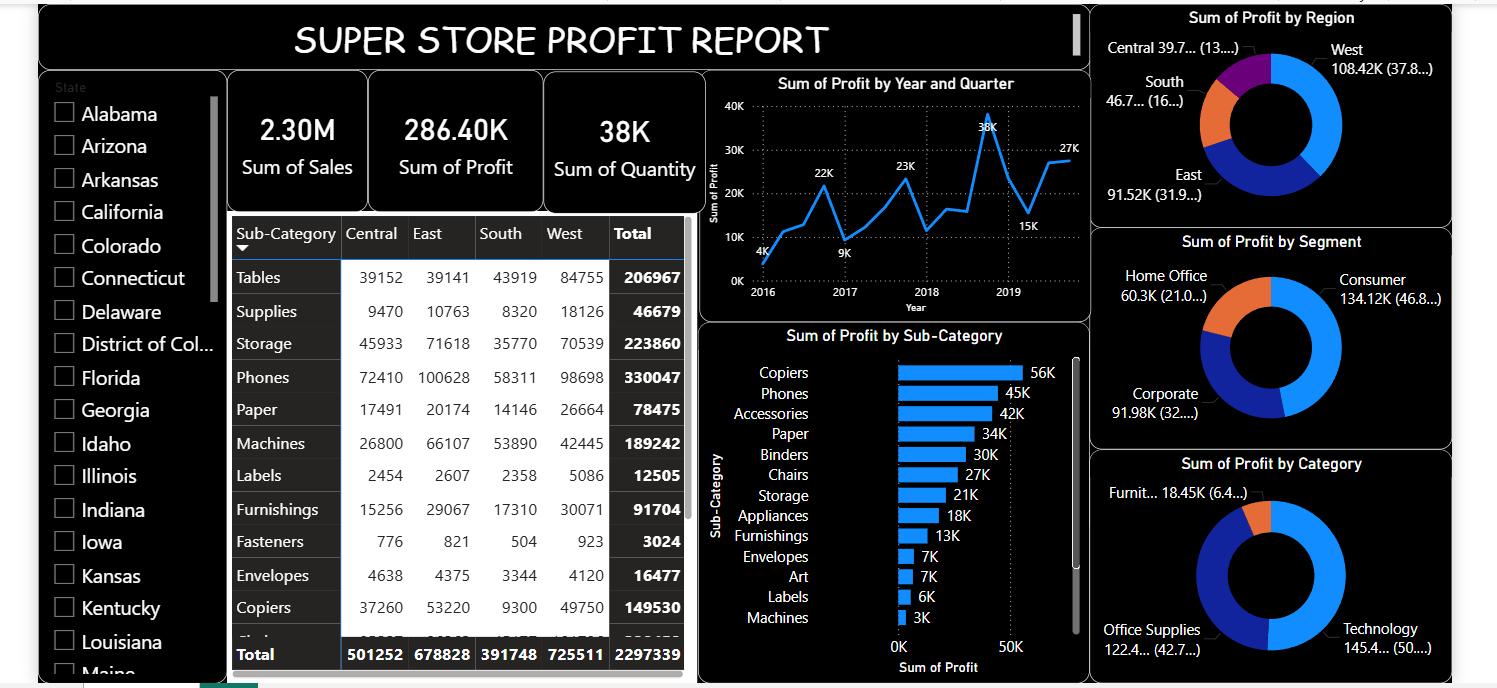

This screenshot's page, from the dashboard's own definition file:
{"tool":"powerbi","page":{"name":"Page 2","canvas":[1500,720],"ordinal":0},"visuals":[{"type":"textbox","box":[0,0,1116.6,70],"z":0},{"type":"donutChart","fields":{"Y":["Sum(Orders.Profit)"],"Category":["Orders.Category"]},"box":[1115,472.4,384.9,248.1],"z":1000},{"type":"donutChart","fields":{"Y":["Sum(Orders.Profit)"],"Category":["Orders.Segment"]},"box":[1115,237,384.9,235.4],"z":2000},{"type":"donutChart","fields":{"Y":["Sum(Orders.Profit)"],"Category":["Orders.Region"]},"box":[1115,0,384.9,237],"z":3000},{"type":"barChart","fields":{"Category":["Orders.Sub-Category"],"Y":["Sum(Orders.Profit)"]},"box":[699.9,337.2,415.1,383.3],"z":4000},{"type":"lineChart","fields":{"Category":["Orders.Order Date.Variation.Date Hierarchy.Year","Orders.Order Date.Variation.Date Hierarchy.Quarter","Orders.Order Date.Variation.Date Hierarchy.Month","Orders.Order Date.Variation.Date Hierarchy.Day"],"Y":["Sum(Orders.Profit)"]},"box":[701.5,70,415.1,267.2],"z":5000},{"type":"slicer","fields":{"Values":["Orders.State"]},"box":[0,70,200.4,650.6],"z":6000},{"type":"pivotTable","fields":{"Rows":["Orders.Sub-Category"],"Columns":["Orders.Region"],"Values":["Sum(Orders.Sales)"]},"box":[200.5,220,498.6,500.4],"z":6001},{"type":"card","fields":{"Values":["Sum(Orders.Sales)"]},"box":[200.5,69.2,149.1,150.8],"z":6002},{"type":"card","fields":{"Values":["Sum(Orders.Profit)"]},"box":[349.6,69.2,186.3,150.8],"z":6003},{"type":"card","fields":{"Values":["Sum(Orders.Quantity)"]},"box":[535.9,71,172.1,150.8],"z":6004}]}

Visuals, with their boxes in screenshot pixels (x1, y1, x2, y2):
textbox: detection(35, 0, 1084, 66)
donutChart - Sum(Orders.Profit) x Orders.Category: detection(1083, 444, 1445, 677)
donutChart - Sum(Orders.Profit) x Orders.Segment: detection(1083, 223, 1445, 444)
donutChart - Sum(Orders.Profit) x Orders.Region: detection(1083, 0, 1445, 223)
barChart - Orders.Sub-Category x Sum(Orders.Profit): detection(693, 317, 1083, 677)
lineChart - Orders.Order Date.Variation.Date Hierarchy.Year x Orders.Order Date.Variation.Date Hierarchy.Quarter: detection(694, 66, 1084, 317)
slicer - Orders.State: detection(35, 66, 223, 677)
pivotTable - Orders.Sub-Category x Orders.Region: detection(224, 207, 692, 677)
card - Sum(Orders.Sales): detection(224, 65, 364, 207)
card - Sum(Orders.Profit): detection(364, 65, 539, 207)
card - Sum(Orders.Quantity): detection(539, 67, 700, 208)
